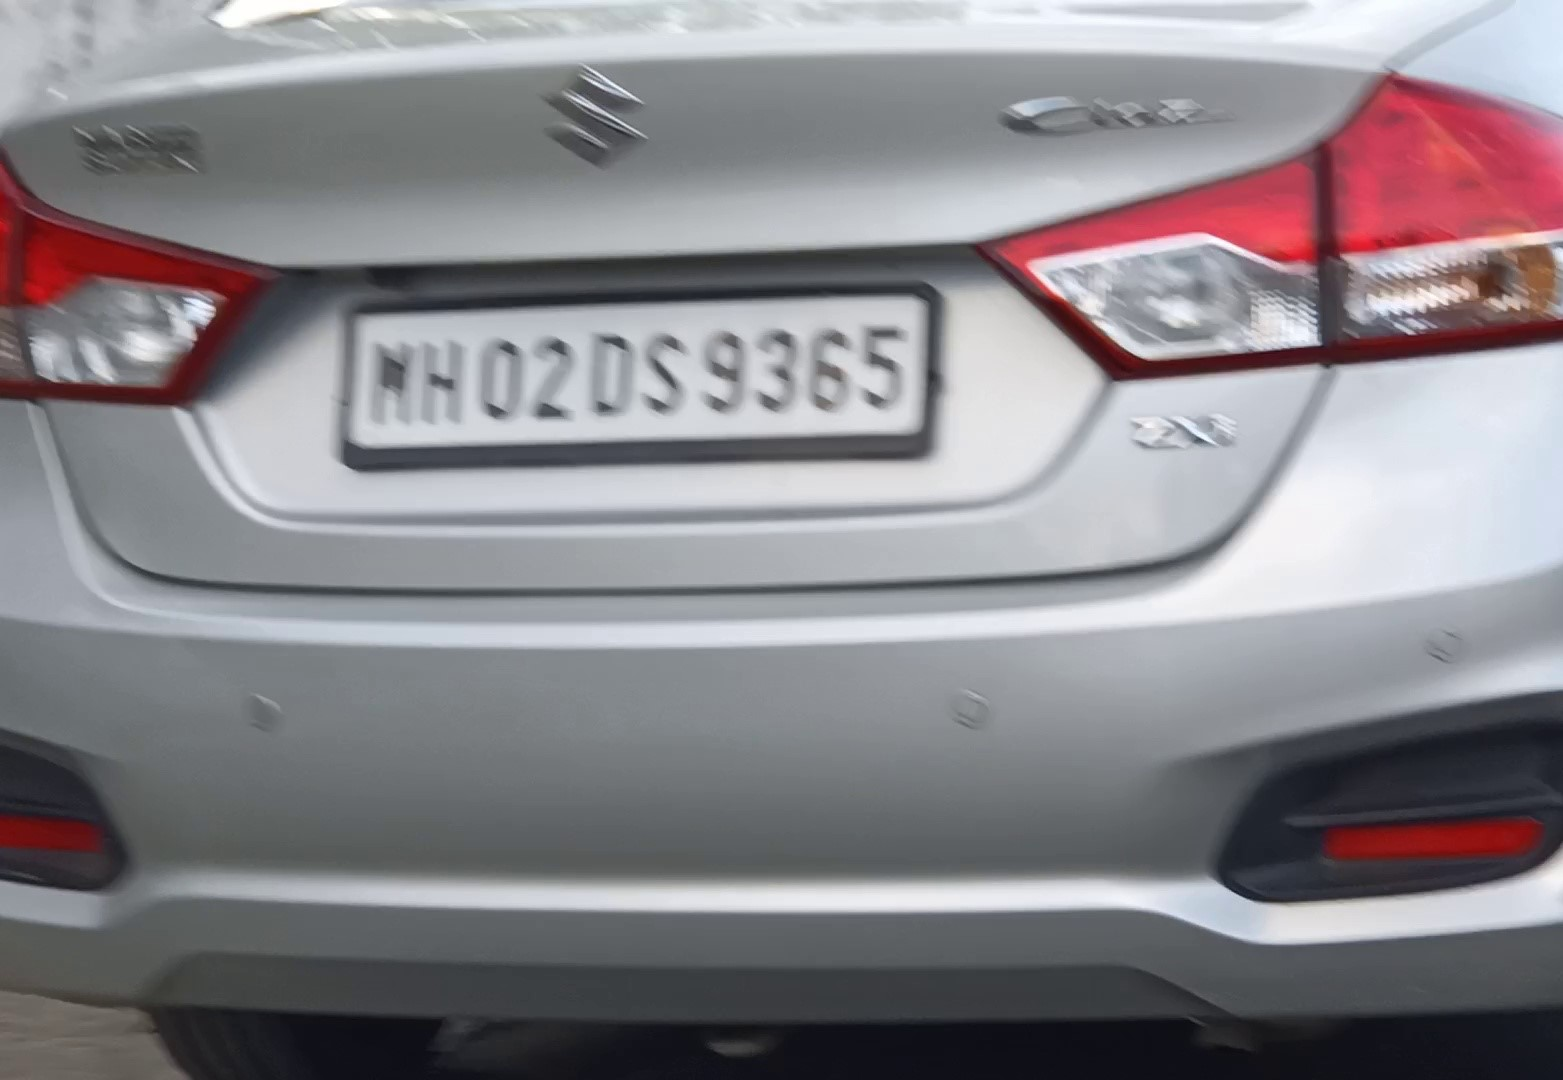MH02DS9365: (348, 294, 929, 434)
